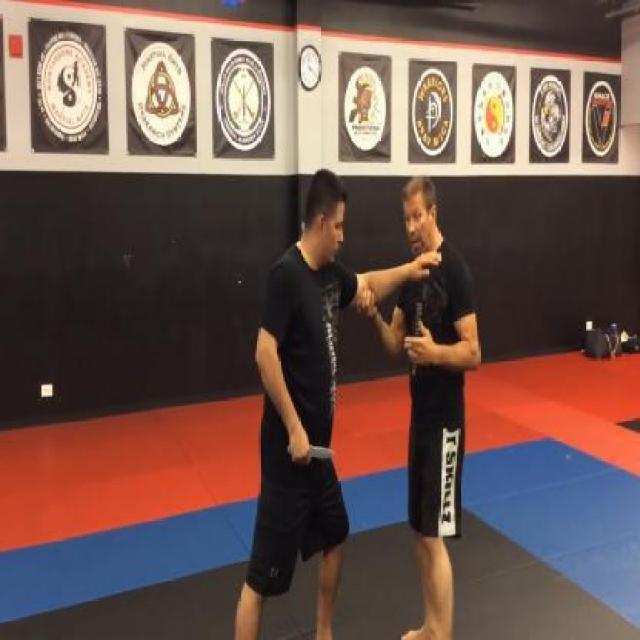-: (286, 431, 339, 465)
